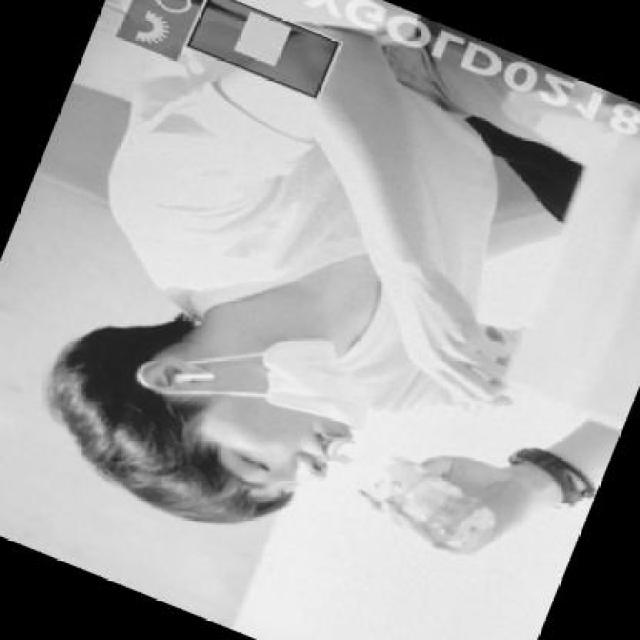earphone: (167, 368, 234, 395)
